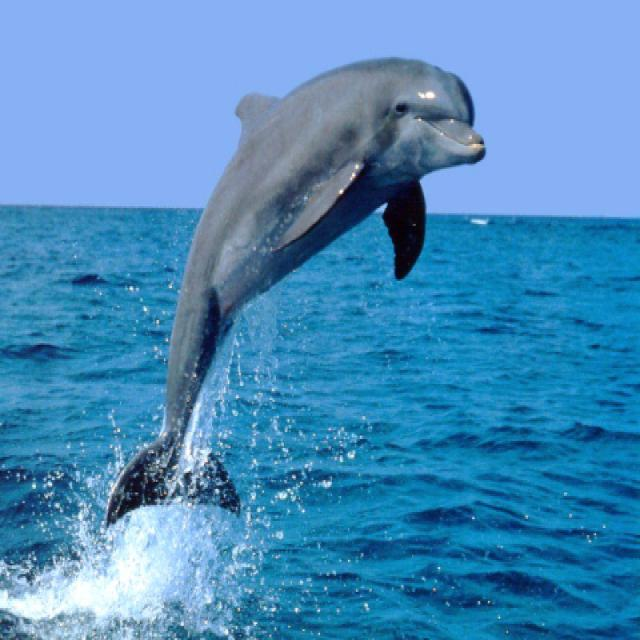dolphin: (106, 58, 485, 524)
